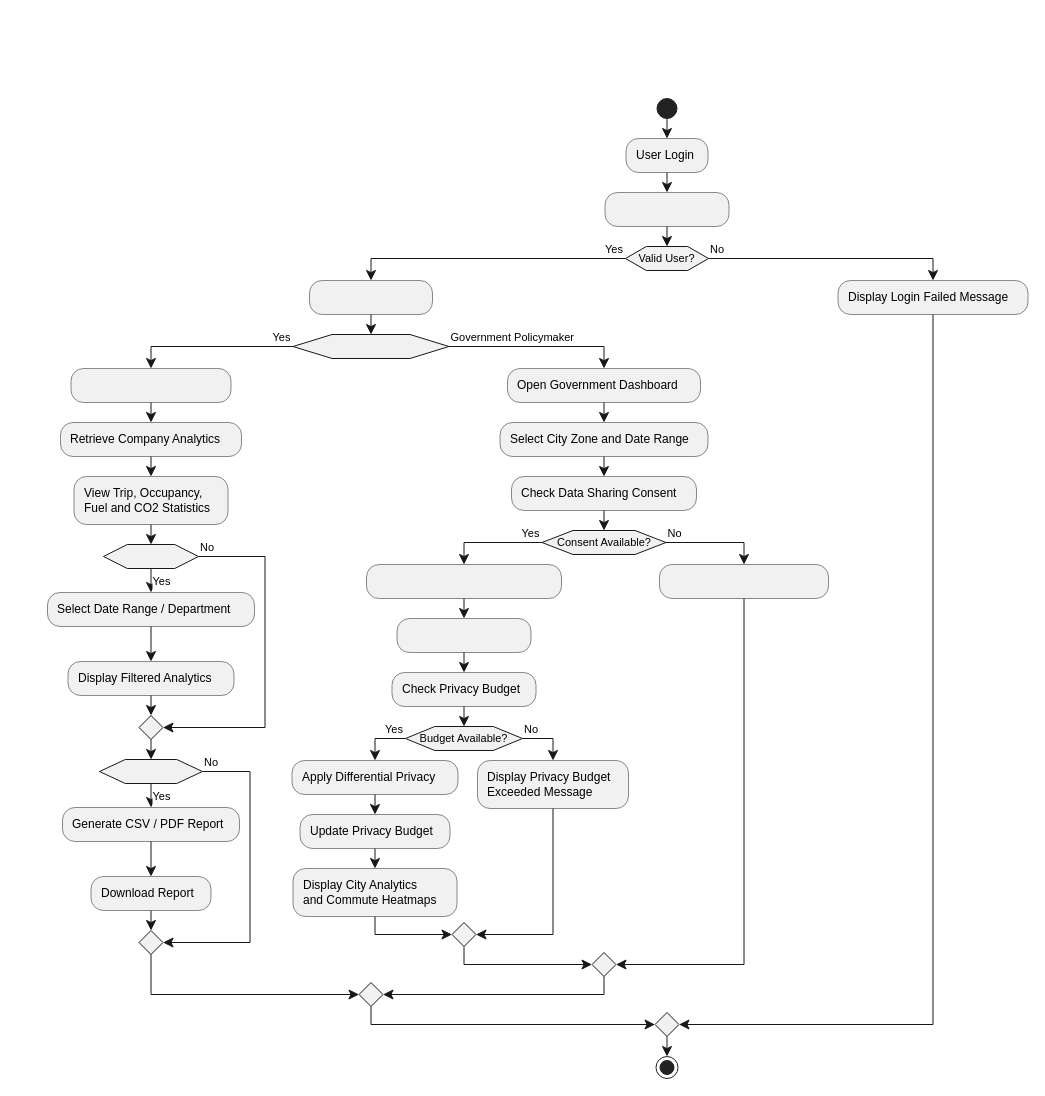
Some shapes in this 1045 by 1096 pixel diagram are drawn without their labels. The centre of each missing label's shape, as x and y in pixels:
Apply Filters?: point (150, 556)
Apply K-Anonymity: point (463, 635)
Authenticate User: point (666, 209)
Company Administrator?: point (370, 346)
Display No Available Data: point (743, 581)
Export Report?: point (150, 771)
Identify User Role: point (370, 297)
Open Admin Dashboard: point (150, 385)
Retrieve Aggregated City Data: point (463, 581)
